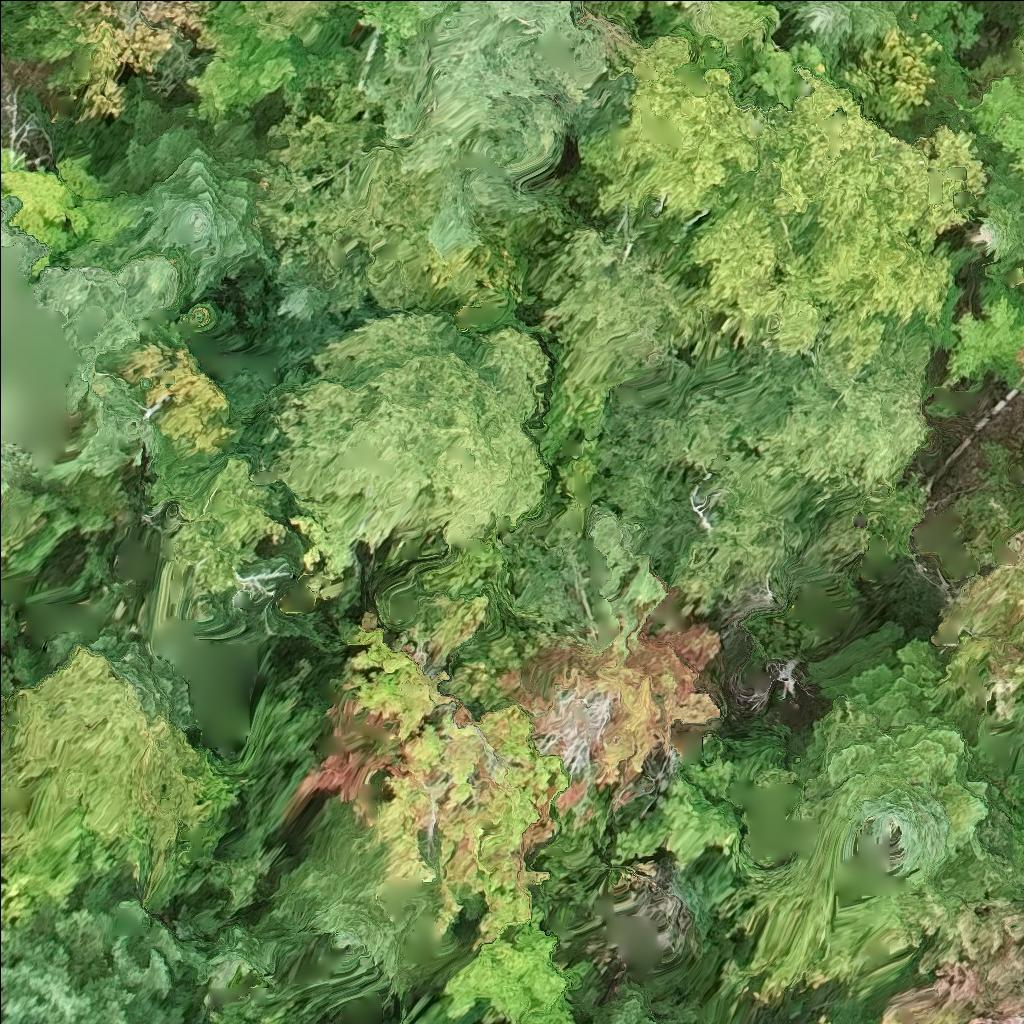crown: (784, 0, 907, 50)
